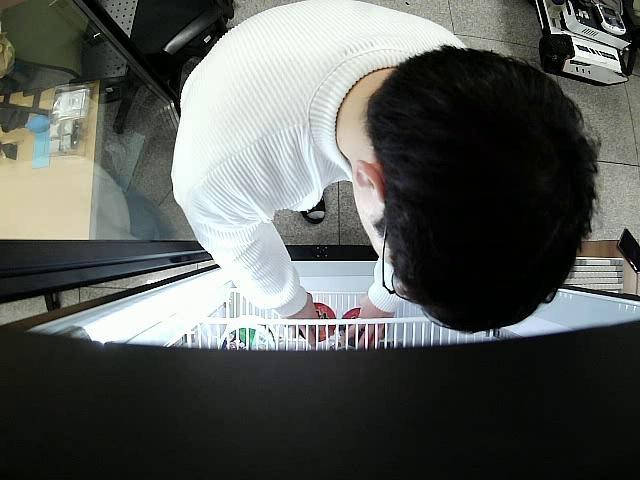02_shinRamen_S: (300, 301, 334, 342), (341, 309, 374, 346)
